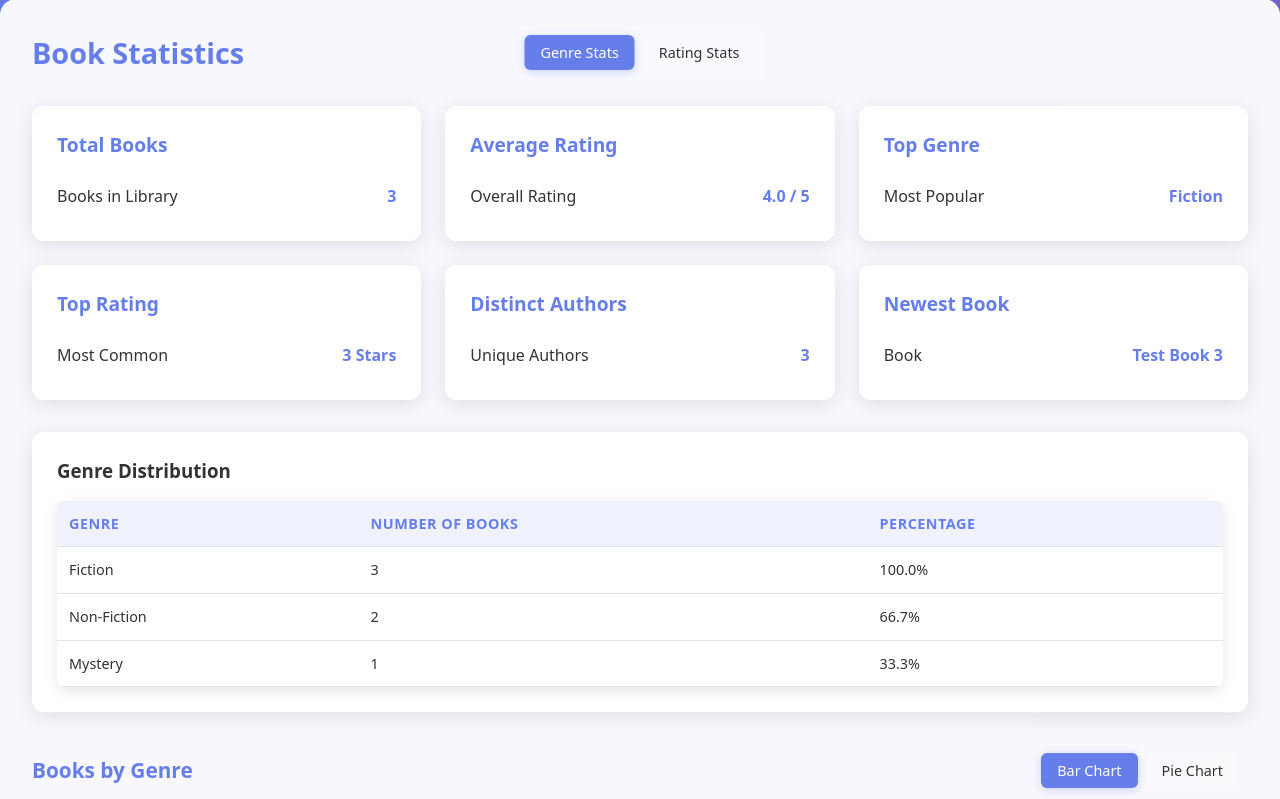
Test case: StatsView › switches between genre and rating stats
Note: Click rating stats button
Click the button with test id "rating-stats-btn" at (699, 53), box [643,35,756,70]
(page scrolled)
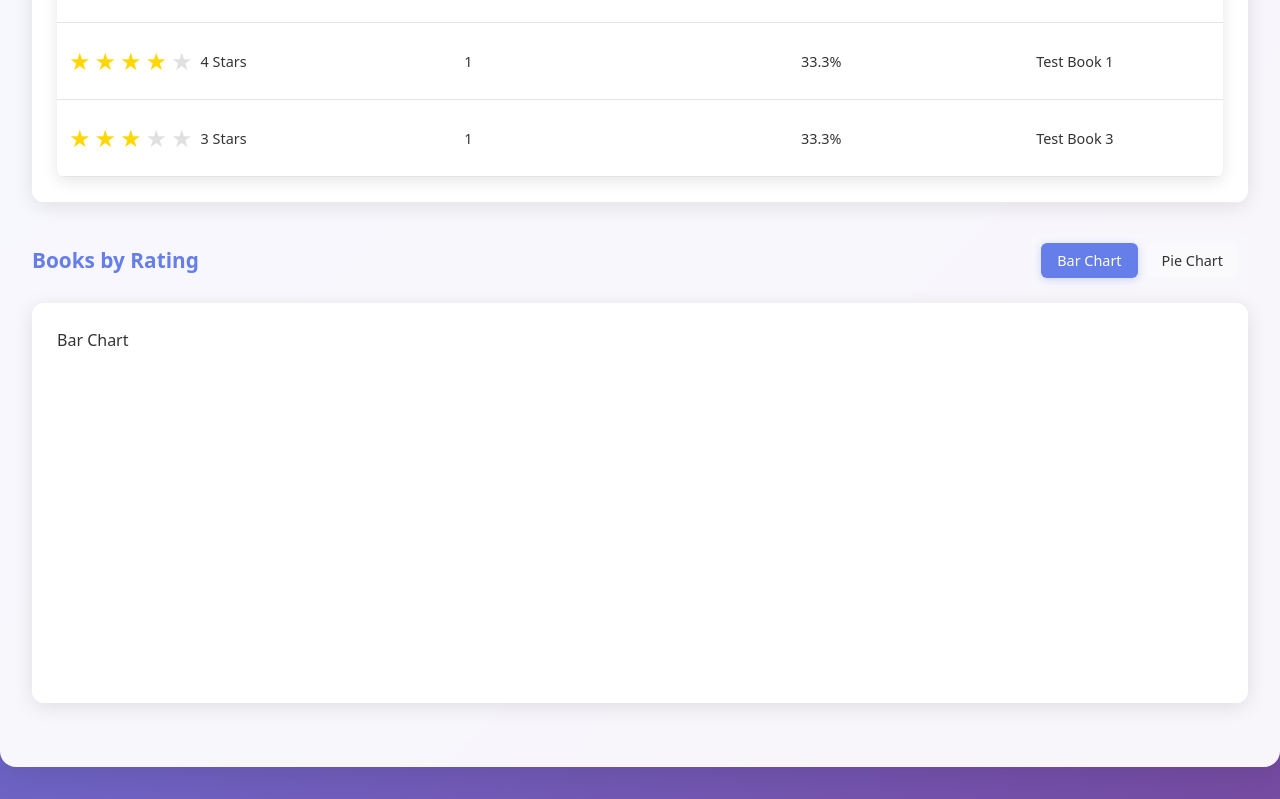
expect the text "Bar Chart" is shown: met, box [32,304,1248,704]
